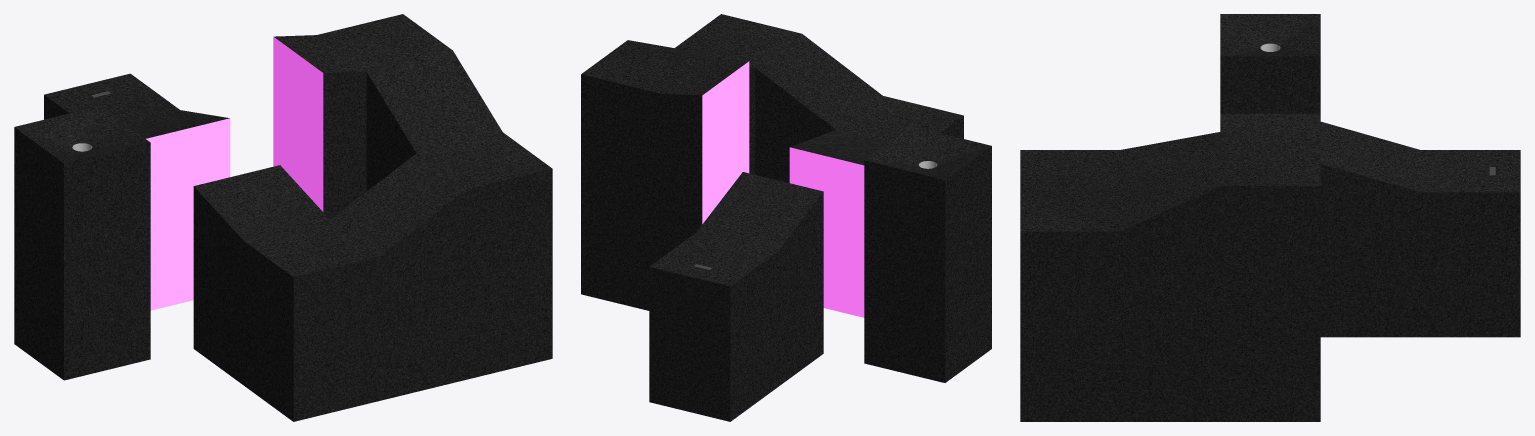
Rendered from Hole 6 Base.glb.
3 views of the same model, side by side, from view 1: azimuth 30°, elevation 25°; view 2: azimuth 150°, elevation 25°; view 3: azimuth 270°, elevation 25° (orthographic). The views are drawn at different scales.
Parts seen in each view (by area): view 1: Hole 6 Base; view 2: Hole 6 Base; view 3: Hole 6 Base.
Part boxes in pixels (<box>): Hole 6 Base: <box>14,14,552,421</box>; Hole 6 Base: <box>581,14,991,421</box>; Hole 6 Base: <box>1020,14,1520,421</box>.
Size of what is drawn, in the model's own units: 9 by 5.4 by 10.
Materials: 4 (1 with a texture image).
